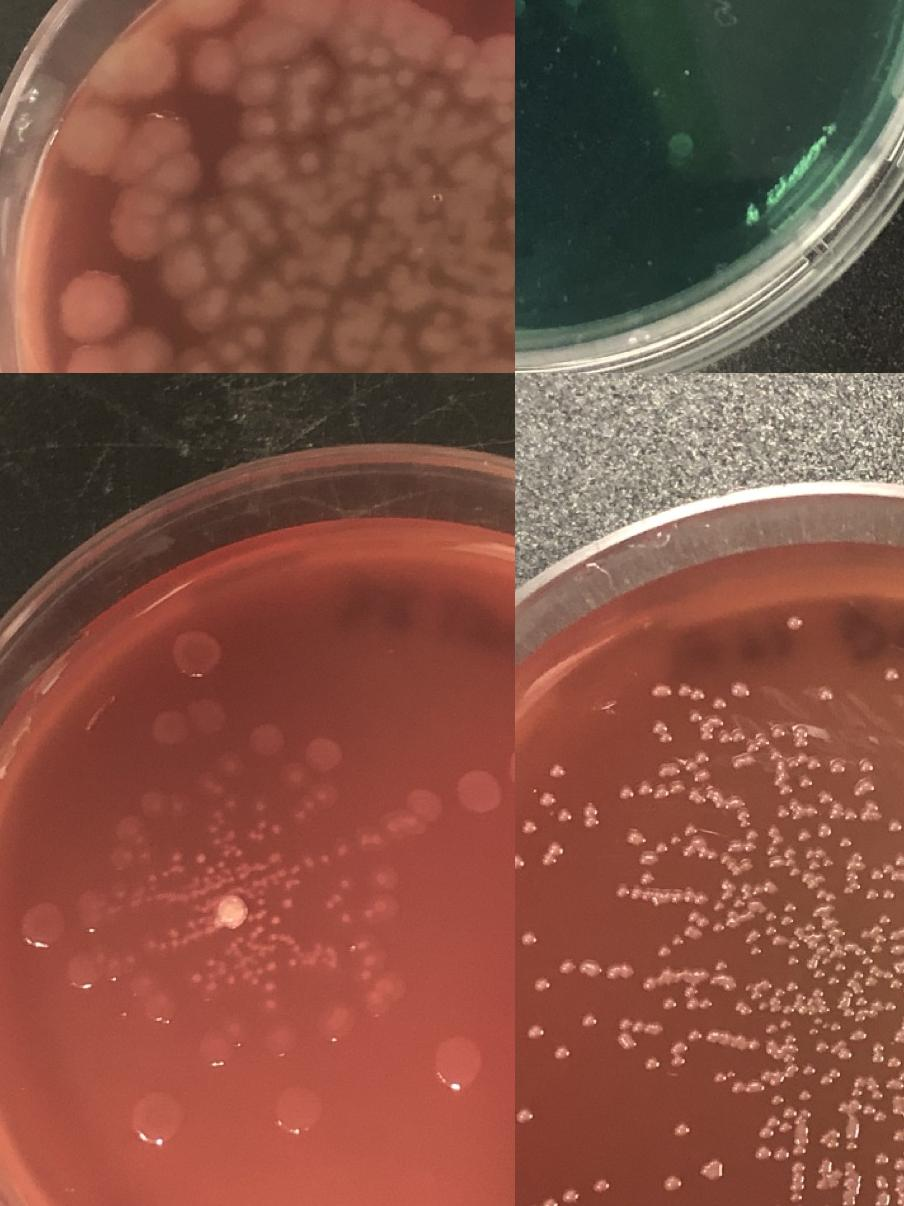assalmonicida: (616, 884, 709, 906), (711, 880, 746, 930), (760, 1106, 812, 1139), (705, 1030, 761, 1052), (688, 710, 722, 743), (802, 870, 837, 902), (854, 934, 887, 967), (848, 1098, 888, 1124), (764, 824, 785, 870), (763, 908, 786, 949), (683, 752, 709, 784), (730, 829, 759, 856), (682, 824, 705, 858), (617, 1016, 660, 1034), (840, 969, 864, 1001), (685, 986, 712, 1012), (724, 857, 754, 880), (803, 848, 834, 870), (784, 752, 820, 770), (772, 1190, 808, 1206), (792, 1122, 808, 1158), (542, 841, 564, 867), (656, 834, 682, 856), (652, 720, 674, 746), (730, 795, 750, 822), (686, 907, 709, 930), (678, 684, 705, 702), (820, 1066, 842, 1088), (744, 734, 768, 754), (780, 900, 798, 926), (827, 806, 856, 822), (851, 778, 874, 798), (876, 1176, 892, 1204), (716, 728, 744, 744), (787, 937, 802, 966), (515, 1196, 558, 1206), (672, 1040, 687, 1068), (606, 964, 634, 979), (822, 918, 842, 938), (872, 863, 894, 881), (793, 723, 808, 749), (806, 938, 827, 956), (842, 1008, 864, 1025), (807, 1016, 823, 1038), (656, 763, 681, 777), (580, 960, 600, 977), (586, 803, 598, 830), (872, 1040, 884, 1066), (872, 1000, 898, 1012), (733, 1002, 753, 1016), (892, 944, 904, 964), (671, 934, 685, 949), (878, 911, 892, 926), (765, 879, 779, 894), (640, 870, 654, 885), (704, 847, 718, 862), (782, 846, 796, 861), (889, 819, 903, 834), (690, 788, 704, 803), (638, 782, 652, 797), (713, 696, 727, 711), (595, 1178, 609, 1192), (665, 1176, 679, 1190), (793, 1160, 807, 1174), (674, 1124, 688, 1138), (518, 1108, 532, 1122), (870, 1090, 884, 1104), (646, 1058, 660, 1072), (888, 1055, 902, 1069), (554, 1044, 568, 1058), (814, 1040, 828, 1054), (764, 1040, 778, 1054), (620, 1034, 634, 1048), (530, 1024, 544, 1038), (786, 980, 800, 994), (714, 958, 728, 972), (522, 931, 536, 945), (746, 930, 760, 944), (711, 920, 725, 934), (881, 888, 895, 902), (865, 887, 879, 901), (641, 850, 655, 864), (838, 836, 852, 850), (630, 831, 644, 845), (817, 824, 831, 838), (522, 820, 536, 834), (558, 808, 572, 822), (818, 790, 832, 804), (620, 785, 634, 799), (670, 780, 684, 794), (798, 774, 812, 788), (831, 759, 845, 773), (772, 726, 786, 740), (734, 682, 748, 696), (775, 1147, 788, 1161), (756, 1146, 769, 1160), (749, 945, 762, 959), (749, 898, 762, 912), (779, 784, 792, 798), (820, 688, 833, 702), (655, 682, 668, 696), (842, 1194, 856, 1206), (564, 1190, 576, 1204), (876, 1154, 888, 1168), (846, 1140, 858, 1154), (772, 1092, 784, 1106), (798, 1090, 810, 1104), (732, 1082, 744, 1096), (802, 1064, 814, 1078), (840, 1048, 852, 1062), (852, 1028, 864, 1042), (584, 1014, 596, 1028), (536, 977, 548, 991), (560, 959, 572, 973), (658, 945, 670, 959), (850, 850, 862, 864), (776, 806, 788, 820), (542, 791, 554, 805), (656, 785, 668, 799), (550, 766, 564, 778), (732, 754, 744, 768), (855, 995, 867, 1008), (883, 1079, 895, 1091), (765, 1022, 777, 1034), (830, 1022, 842, 1034), (780, 1018, 792, 1030), (757, 1000, 769, 1012), (664, 998, 676, 1010), (773, 987, 785, 999), (813, 986, 825, 998), (759, 979, 771, 991), (643, 978, 655, 990), (724, 978, 736, 990), (890, 978, 902, 990), (828, 976, 840, 988), (865, 976, 877, 988), (812, 969, 824, 981), (834, 961, 846, 973), (859, 928, 871, 940), (684, 926, 696, 938), (788, 865, 800, 877), (798, 830, 810, 842), (866, 800, 878, 812), (861, 760, 873, 772), (886, 670, 898, 682), (789, 617, 801, 629), (894, 961, 904, 975), (842, 885, 854, 896), (515, 854, 524, 868), (897, 1069, 904, 1083), (896, 856, 904, 868)
pddamselae: (670, 134, 694, 158), (515, 0, 524, 15), (556, 0, 583, 5)
tmaritimum: (16, 898, 66, 950), (274, 1084, 324, 1134), (434, 1038, 484, 1088), (452, 768, 502, 818), (173, 627, 223, 677), (135, 1094, 184, 1144), (346, 937, 382, 988), (118, 812, 154, 862), (290, 787, 335, 827), (366, 971, 404, 1018), (323, 1003, 359, 1040), (144, 990, 180, 1027), (195, 1032, 231, 1068), (264, 1022, 300, 1058), (66, 954, 102, 990), (306, 737, 342, 773), (248, 723, 284, 759), (152, 712, 188, 748), (191, 696, 227, 732), (247, 796, 270, 842), (387, 809, 415, 837), (411, 790, 439, 817), (138, 790, 166, 816), (272, 863, 303, 886), (249, 876, 270, 907), (234, 844, 250, 881), (206, 806, 224, 837), (357, 829, 384, 847), (192, 866, 216, 886), (320, 947, 340, 970), (160, 937, 191, 950), (225, 1014, 245, 1034), (122, 950, 142, 970), (112, 848, 132, 868), (168, 796, 188, 816), (198, 774, 218, 794), (285, 767, 305, 787), (222, 754, 242, 774), (242, 968, 264, 986), (133, 973, 152, 993), (111, 881, 130, 900), (162, 864, 186, 879), (324, 893, 342, 910), (217, 848, 232, 868), (288, 935, 302, 954), (228, 935, 245, 950), (360, 904, 374, 922), (376, 898, 390, 915), (302, 853, 316, 870), (195, 849, 209, 866), (267, 849, 281, 866), (320, 849, 334, 866), (265, 998, 279, 1014), (265, 958, 279, 974), (249, 926, 265, 940), (336, 842, 350, 858), (282, 894, 294, 912), (338, 876, 352, 891), (272, 822, 286, 837), (224, 796, 238, 811), (339, 912, 353, 926), (226, 826, 240, 840), (264, 979, 277, 994), (378, 872, 390, 886)
valgino: (56, 265, 136, 346), (180, 34, 244, 98), (114, 34, 176, 98), (66, 112, 120, 168), (173, 0, 237, 28), (492, 80, 514, 101), (219, 344, 241, 364), (243, 326, 265, 346), (298, 151, 320, 171), (324, 105, 346, 125), (492, 105, 514, 125), (394, 70, 416, 90), (204, 212, 226, 231), (443, 53, 465, 72), (369, 48, 391, 66)
